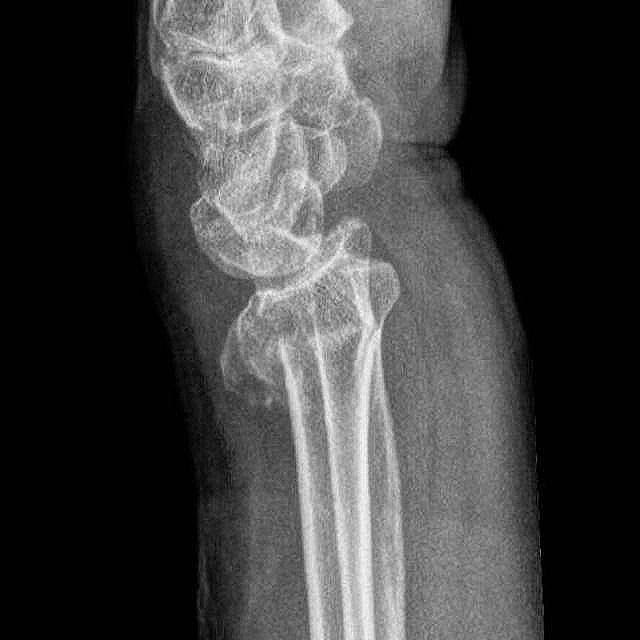bone: (226, 222, 406, 472)
